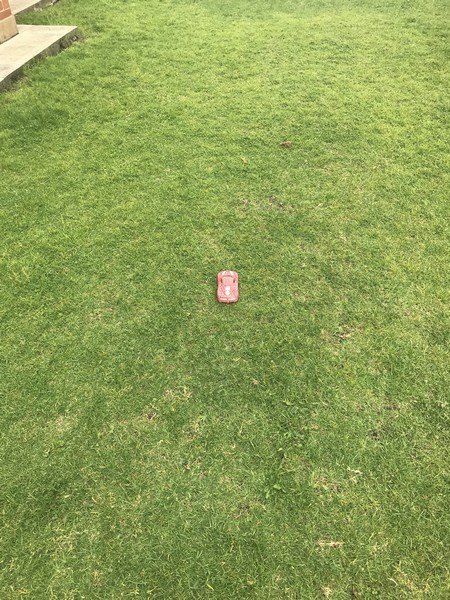RC: (215, 268, 243, 304)
